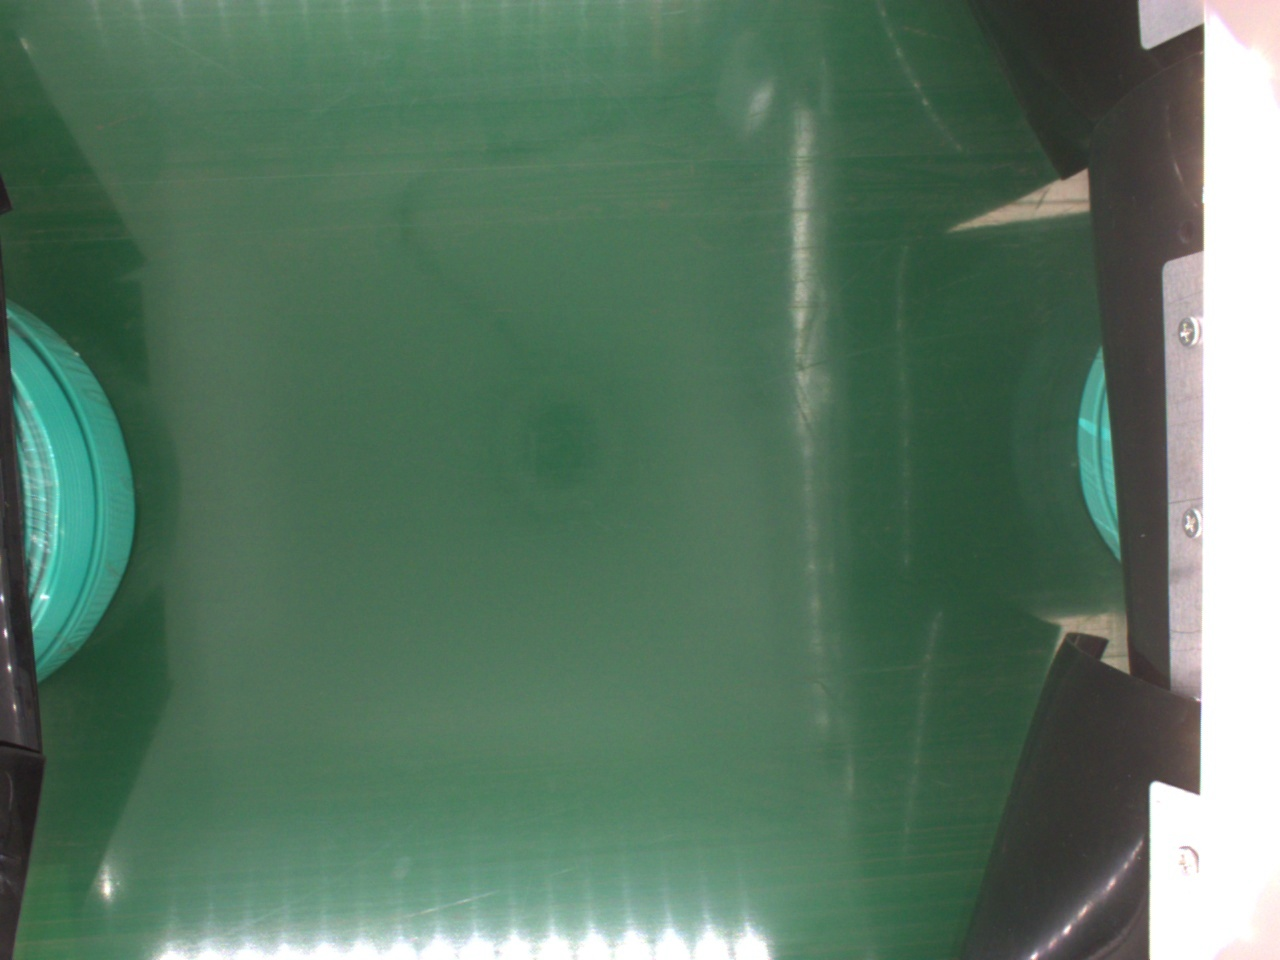green: (5, 301, 140, 671)
